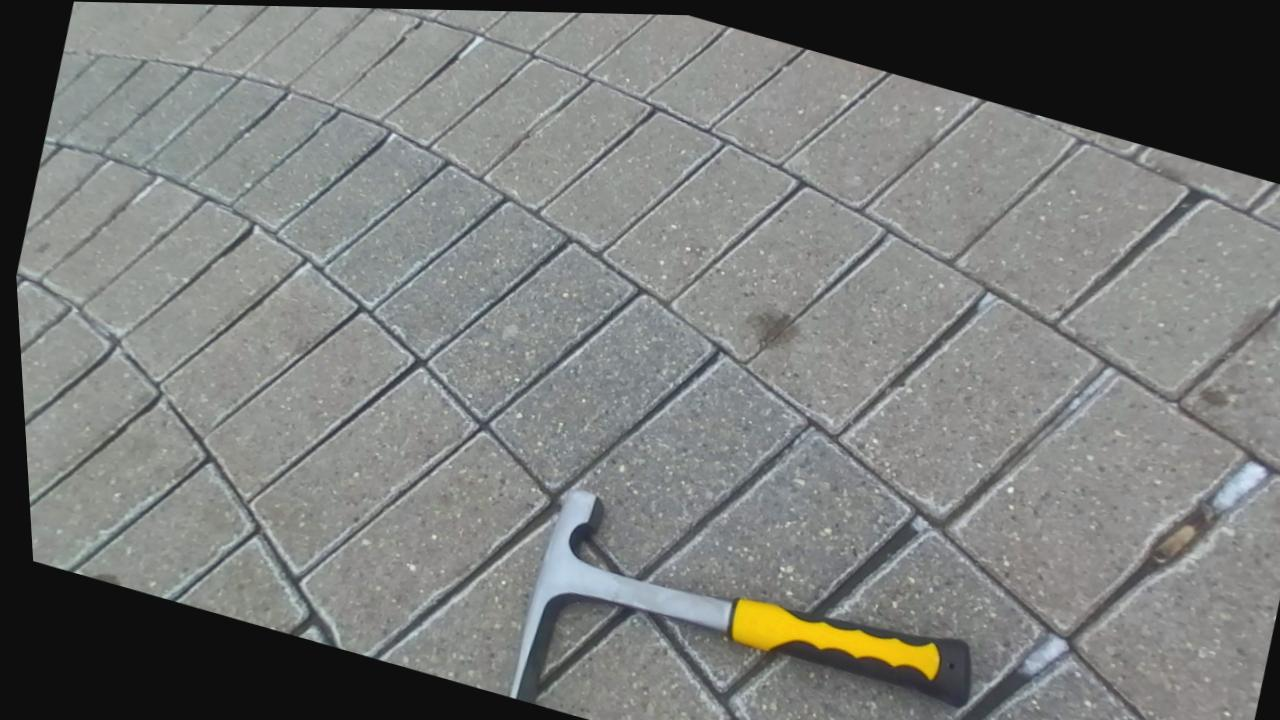pick: (510, 489, 971, 707)
